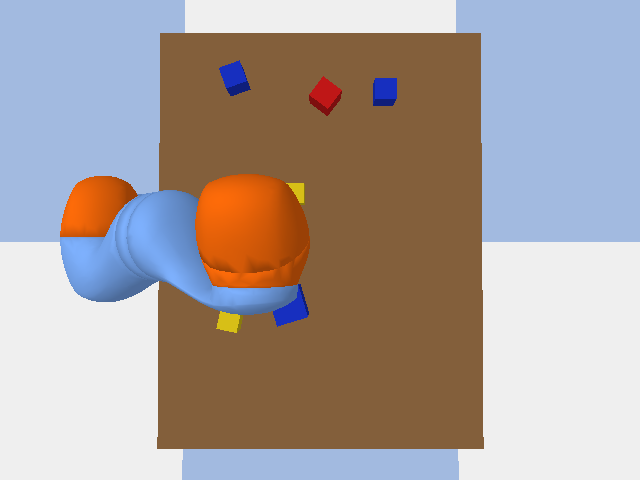blue_obj: (273, 284, 308, 326), (219, 60, 250, 95), (373, 78, 396, 105)
red_obj: (309, 76, 341, 115)
yellow_obj: (216, 311, 242, 332), (286, 183, 304, 204)
